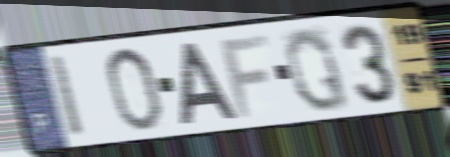3: (339, 20, 397, 106)
A: (179, 39, 239, 126)
F: (218, 31, 272, 121)
I: (47, 52, 88, 141)
O: (102, 44, 165, 133)
Q: (282, 24, 352, 114)
